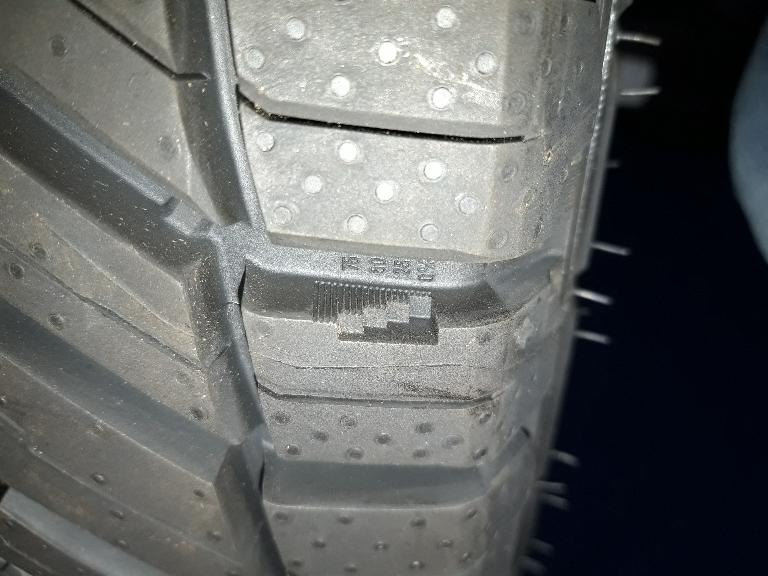temoin:100: (309, 278, 443, 349)
